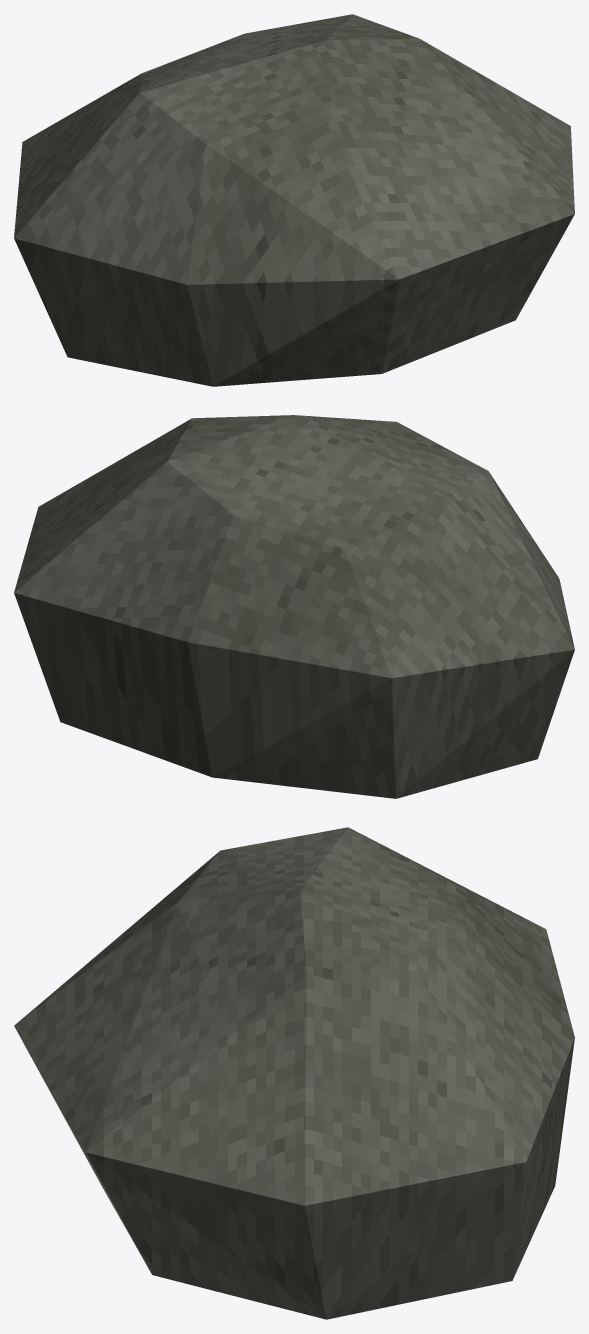
File: env_rocks_02_small_stone.glb
3 views of the same model, one above another, from view 1: azimuth 30°, elevation 25°; view 2: azimuth 150°, elevation 25°; view 3: azimuth 270°, elevation 25° (orthographic). The views are drawn at different scales.
Visible parts, largest first — view 1: solid; view 2: solid; view 3: solid.
Part boxes in pixels (box(x1,y1,x2,y2)): solid: box(14, 14, 574, 386); solid: box(14, 415, 574, 798); solid: box(14, 827, 574, 1319).
Size of the model in its own units: 0.4251 by 0.2 by 0.3259.
Materials: 1 (1 with a texture image).
